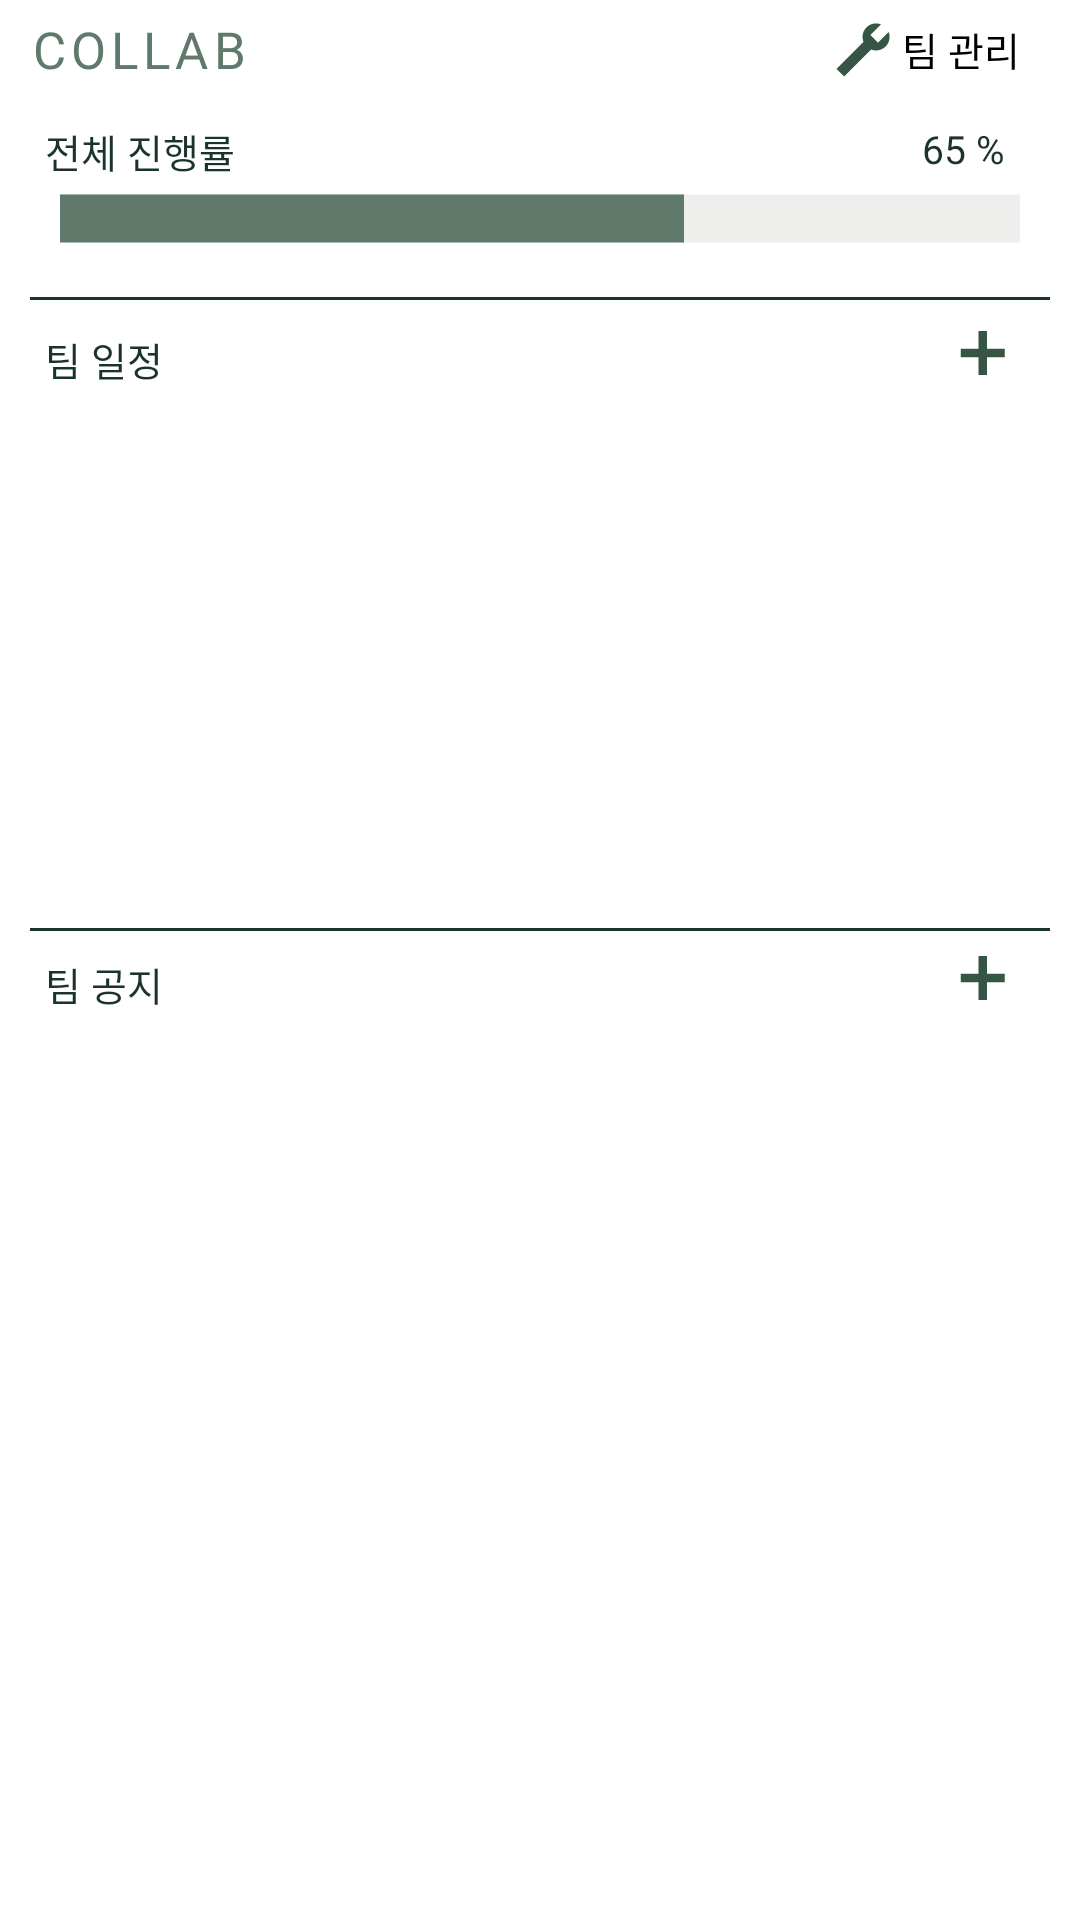

Icons on this 1080w x 1920h Android screen, each with the point to tap as [x,y]:
plus: [982,353], [982,978]
setting: [863,50]
